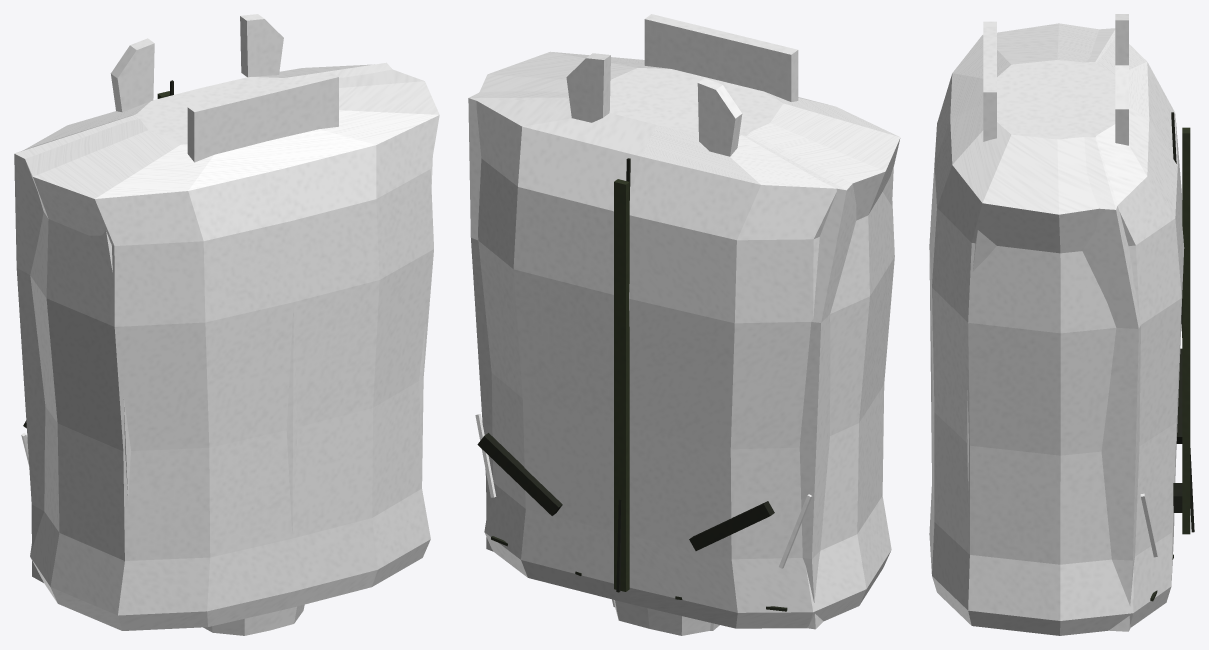
The model's file is jacket_fleece.glb.
3 views of the same model, side by side, from view 1: azimuth 30°, elevation 25°; view 2: azimuth 150°, elevation 25°; view 3: azimuth 270°, elevation 25° (orthographic).
Parts seen in each view (by area): view 1: jacket_fleece_torso_LOD0_RAID_fleece.001, jacket_fleece_torso_LOD0_RAID_cloth.001, jacket_fleece_torso_LOD1_RAID_fleece.001, jacket_fleece_torso_LOD1_RAID_cloth.001, jacket_fleece_upperL_LOD0_RAID_cloth.001; view 2: jacket_fleece_torso_LOD0_RAID_fleece.001, jacket_fleece_torso_LOD1_RAID_fleece.001, jacket_fleece_torso_LOD0_RAID_cloth.001, jacket_fleece_torso_LOD1_RAID_cloth.001, jacket_fleece_torso_LOD0_RAID_reinforce.001, jacket_fleece_torso_LOD1_RAID_reinforce.001, jacket_fleece_torso_LOD1_RAID_zip.001, jacket_fleece_upperL_LOD0_RAID_cloth.001, jacket_fleece_torso_LOD0_RAID_zip.001; view 3: jacket_fleece_torso_LOD0_RAID_fleece.001, jacket_fleece_torso_LOD1_RAID_fleece.001, jacket_fleece_torso_LOD0_RAID_cloth.001, jacket_fleece_torso_LOD1_RAID_reinforce.001, jacket_fleece_torso_LOD0_RAID_reinforce.001, jacket_fleece_torso_LOD0_RAID_zip.001, jacket_fleece_torso_LOD1_RAID_cloth.001, jacket_fleece_torso_LOD1_RAID_zip.001.
Boxes of the visible parts, x1,y1,x2,y2 form: jacket_fleece_torso_LOD0_RAID_fleece.001: [24, 64, 439, 630]; jacket_fleece_torso_LOD0_RAID_cloth.001: [21, 14, 338, 466]; jacket_fleece_torso_LOD1_RAID_fleece.001: [14, 62, 432, 582]; jacket_fleece_torso_LOD1_RAID_cloth.001: [187, 72, 338, 161]; jacket_fleece_upperL_LOD0_RAID_cloth.001: [203, 604, 304, 635]; jacket_fleece_torso_LOD0_RAID_fleece.001: [476, 51, 900, 628]; jacket_fleece_torso_LOD1_RAID_fleece.001: [468, 68, 893, 629]; jacket_fleece_torso_LOD0_RAID_cloth.001: [475, 17, 812, 568]; jacket_fleece_torso_LOD1_RAID_cloth.001: [644, 14, 798, 101]; jacket_fleece_torso_LOD0_RAID_reinforce.001: [614, 179, 629, 591]; jacket_fleece_torso_LOD1_RAID_reinforce.001: [614, 179, 629, 591]; jacket_fleece_torso_LOD1_RAID_zip.001: [477, 433, 774, 550]; jacket_fleece_upperL_LOD0_RAID_cloth.001: [613, 600, 719, 635]; jacket_fleece_torso_LOD0_RAID_zip.001: [478, 158, 773, 592]; jacket_fleece_torso_LOD0_RAID_fleece.001: [929, 23, 1184, 635]; jacket_fleece_torso_LOD1_RAID_fleece.001: [929, 28, 1181, 631]; jacket_fleece_torso_LOD0_RAID_cloth.001: [983, 14, 1157, 557]; jacket_fleece_torso_LOD1_RAID_reinforce.001: [1182, 127, 1190, 534]; jacket_fleece_torso_LOD0_RAID_reinforce.001: [1182, 129, 1190, 478]; jacket_fleece_torso_LOD0_RAID_zip.001: [1171, 112, 1194, 532]; jacket_fleece_torso_LOD1_RAID_cloth.001: [983, 21, 996, 140]; jacket_fleece_torso_LOD1_RAID_zip.001: [1173, 348, 1182, 512].
Bounding box in the file's own units: 0.4666 × 0.6227 × 0.2731.
5 materials, 5 textured.
